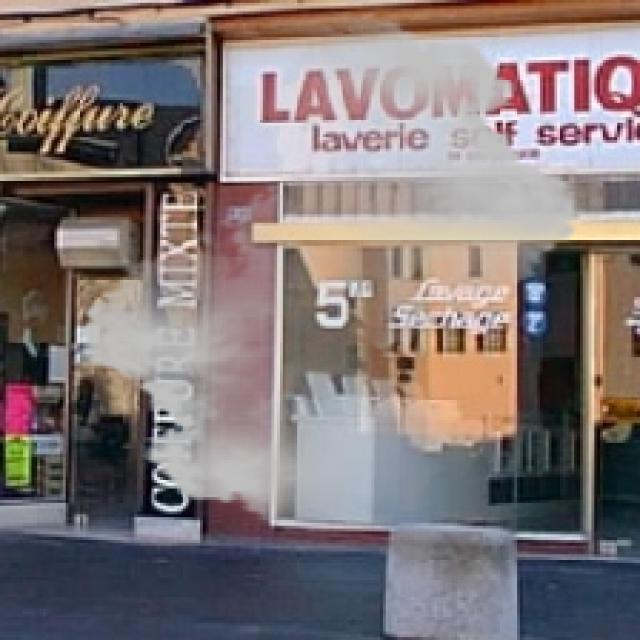smoke: (66, 11, 594, 532)
